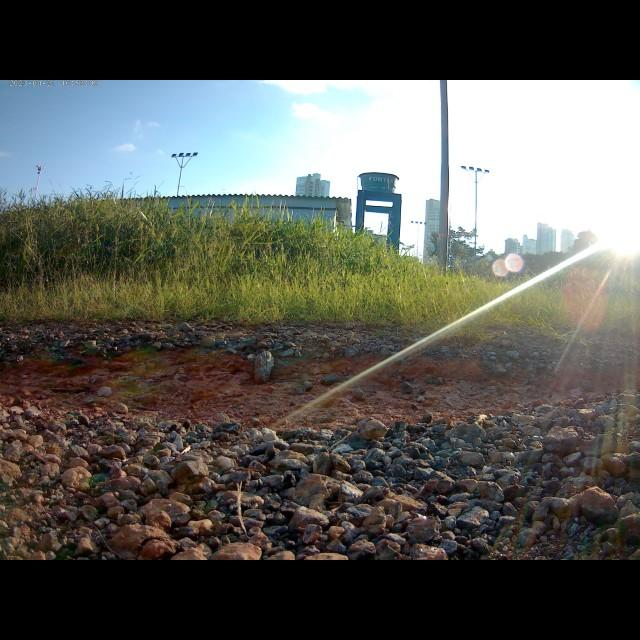ravina: (2, 339, 640, 427)
